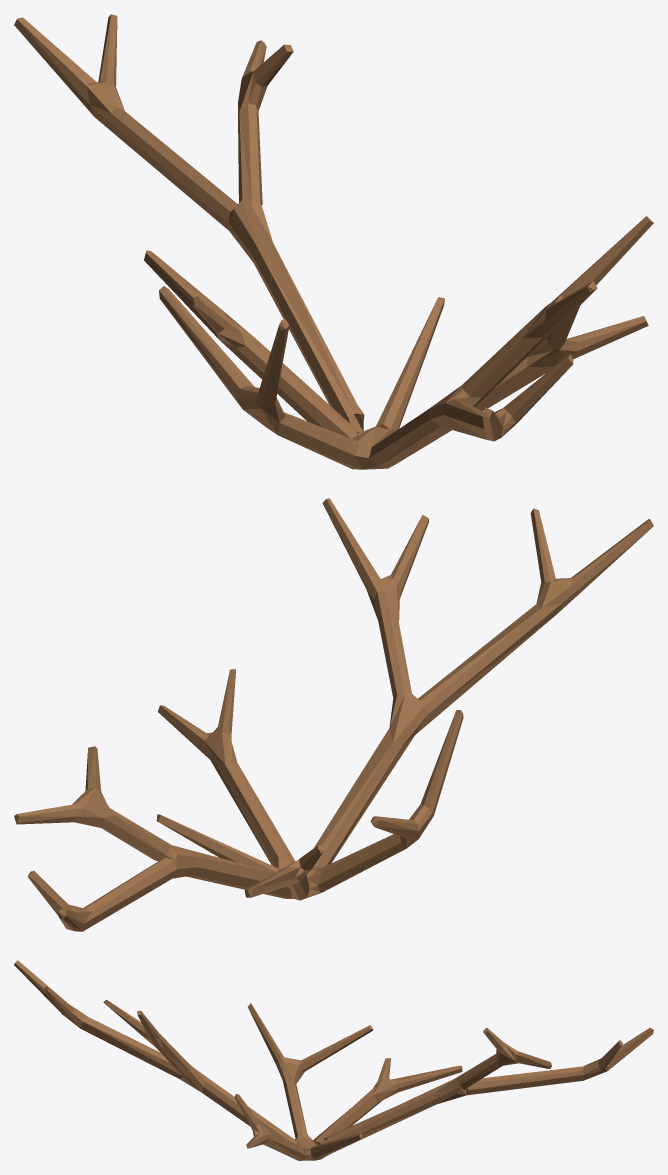
The model's file is Bush_2 Withered.fbx.
3 renders of one model, top to bottom at view 1: azimuth 30°, elevation 25°; view 2: azimuth 150°, elevation 25°; view 3: azimuth 270°, elevation 25°, orthographic. The views are drawn at different scales.
Parts seen in each view (by area): view 1: Bush2Withered_mesh; view 2: Bush2Withered_mesh; view 3: Bush2Withered_mesh.
Boxes of the visible parts, x1=… form: Bush2Withered_mesh: x1=14, y1=14, x2=653, y2=469; Bush2Withered_mesh: x1=14, y1=498, x2=653, y2=931; Bush2Withered_mesh: x1=14, y1=960, x2=653, y2=1160.
Bounding box in the file's own units: 96.84 × 80.37 × 262.
